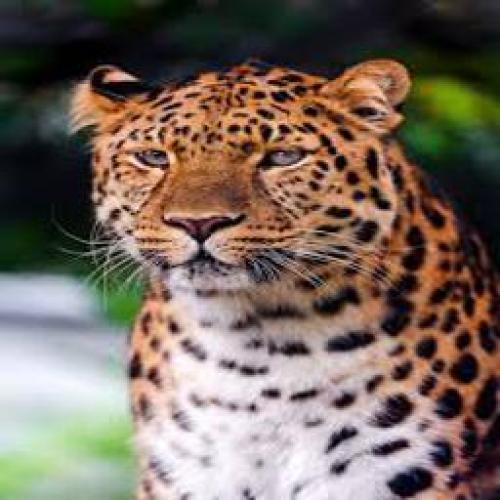amur_leopard-endangered: (68, 52, 499, 500)
